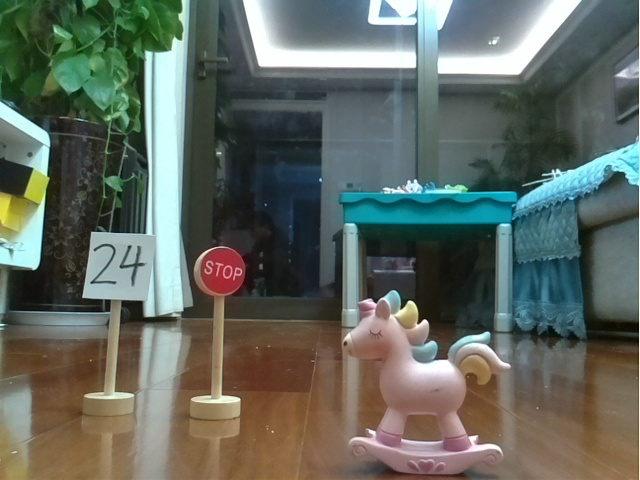Horse: (340, 285, 515, 480)
Speed Limit 24: (80, 226, 157, 420)
Stop Sign: (187, 241, 252, 426)
